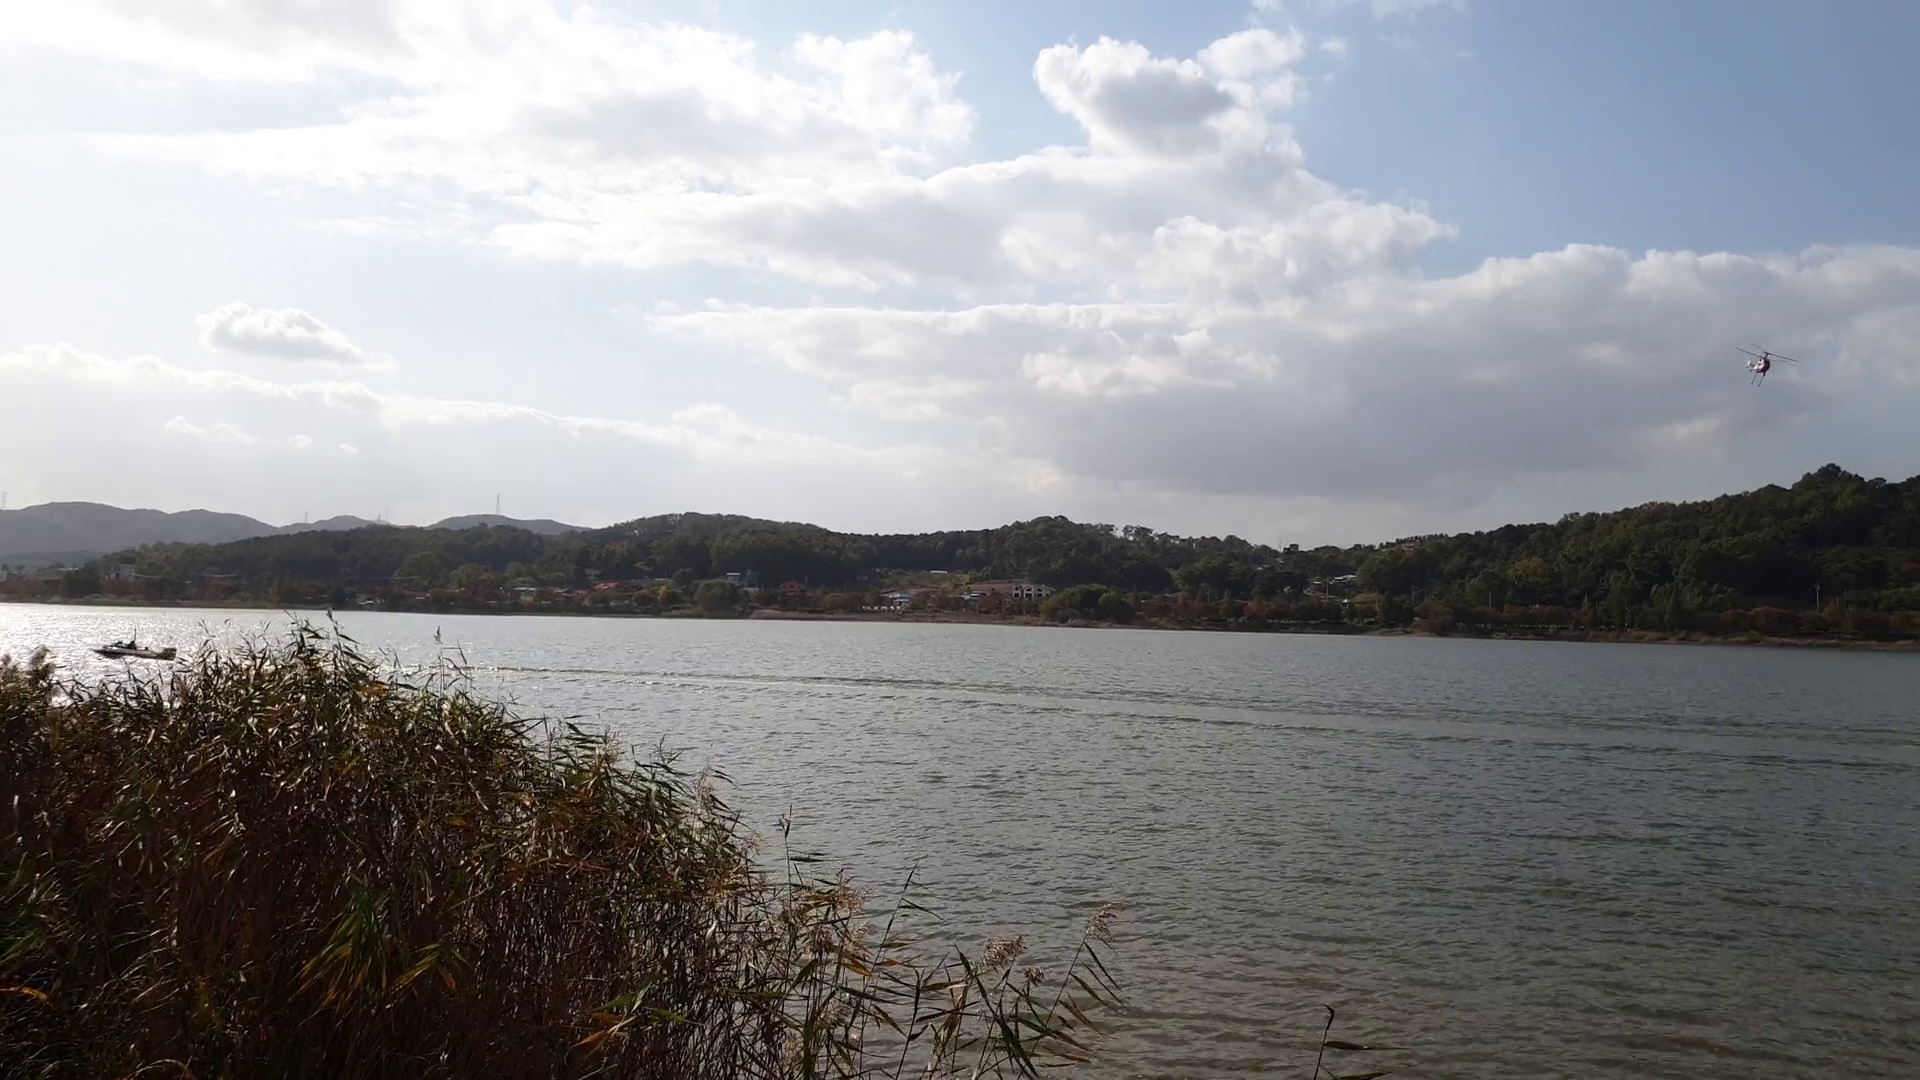heli: (1735, 342, 1797, 375)
